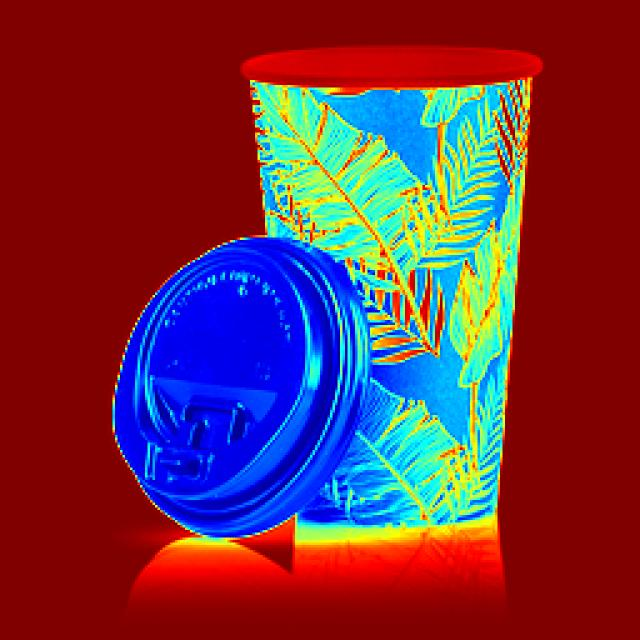Paper Cups: (111, 31, 548, 562)
